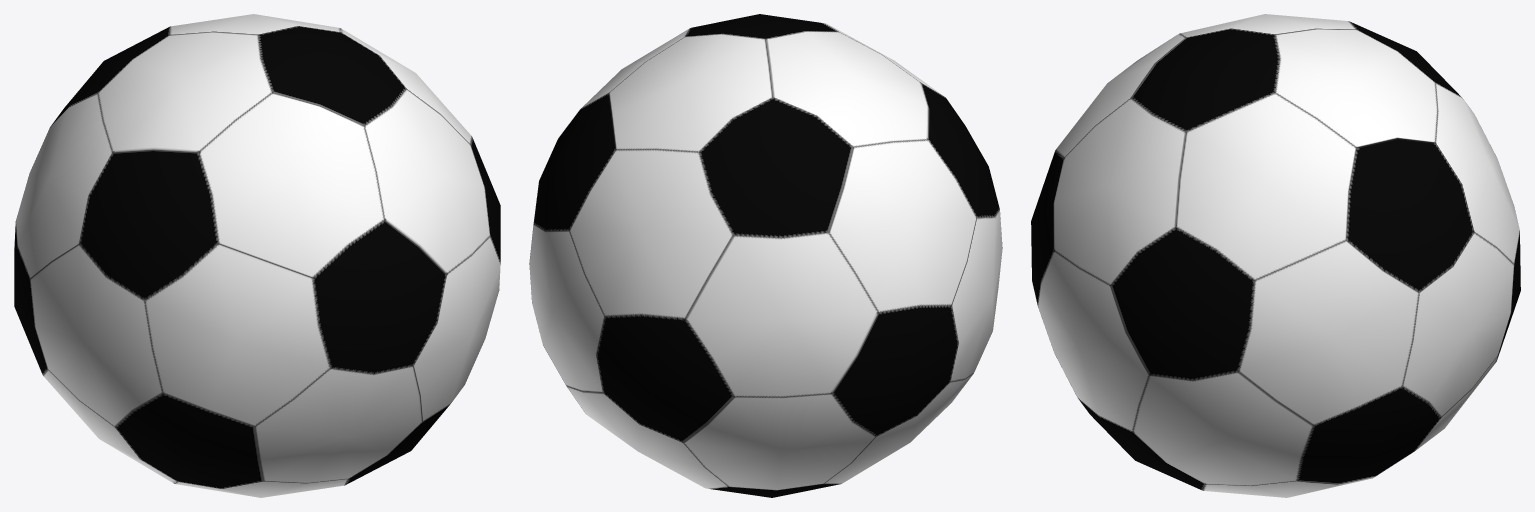
File: Ball.fbx
The picture shows the model from 3 angles, left to right: view 1: azimuth 30°, elevation 25°; view 2: azimuth 150°, elevation 25°; view 3: azimuth 270°, elevation 25°; orthographic projection. The views are drawn at different scales.
Visible parts, largest first — view 1: Ball; view 2: Ball; view 3: Ball.
Boxes of the visible parts, <box> form: Ball: <box>14,14,500,497</box>; Ball: <box>529,14,1002,497</box>; Ball: <box>1031,14,1520,497</box>.
Bounding box in the file's own units: 0.824 × 0.8312 × 0.8322.
